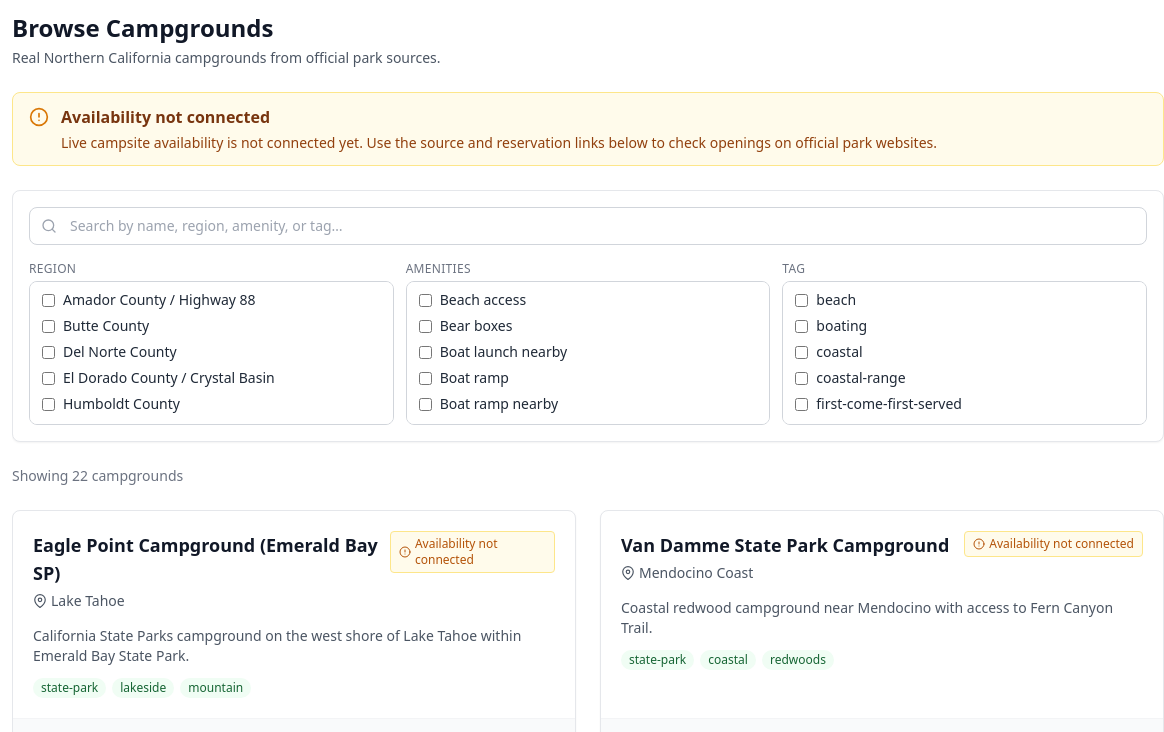
Scenario: CampgroundsPage › filters campgrounds by multiple amenities
The width and height of the screenshot is (1164, 732).
Step 1. Click the checkbox labelled "Beach access" → (425, 300), box [419, 294, 432, 306]
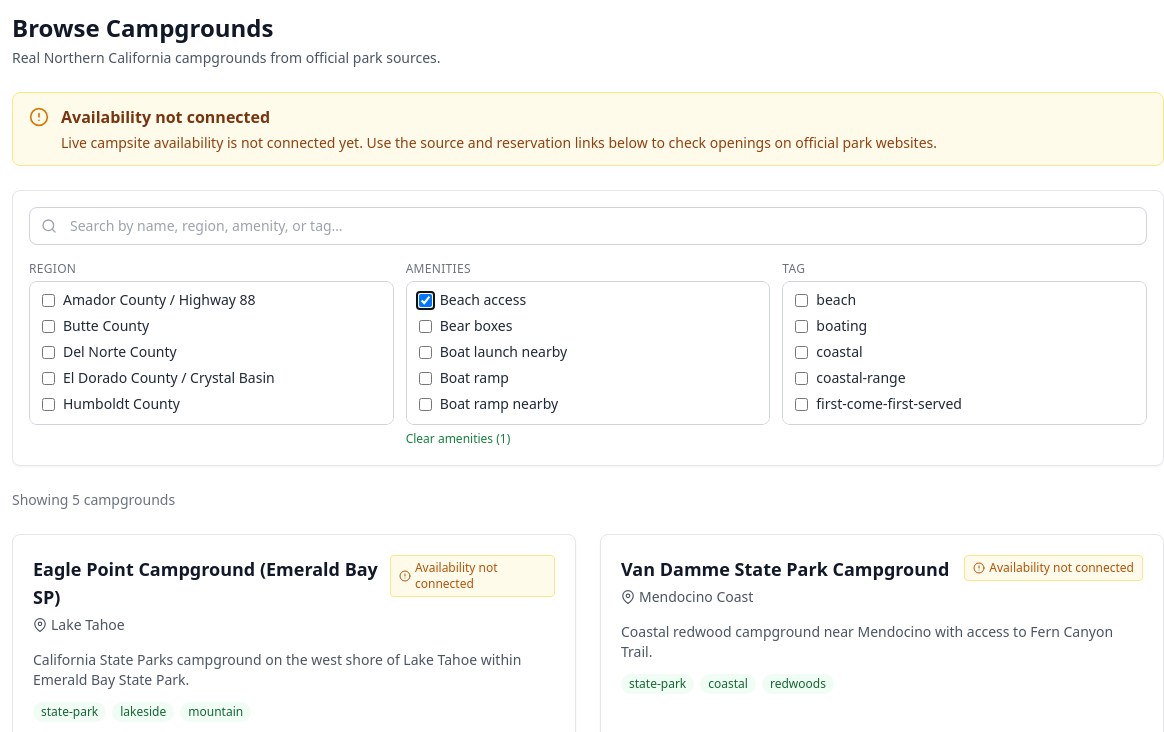
Step 2. Click the checkbox labelled "Bear boxes" → (425, 326), box [419, 320, 432, 332]
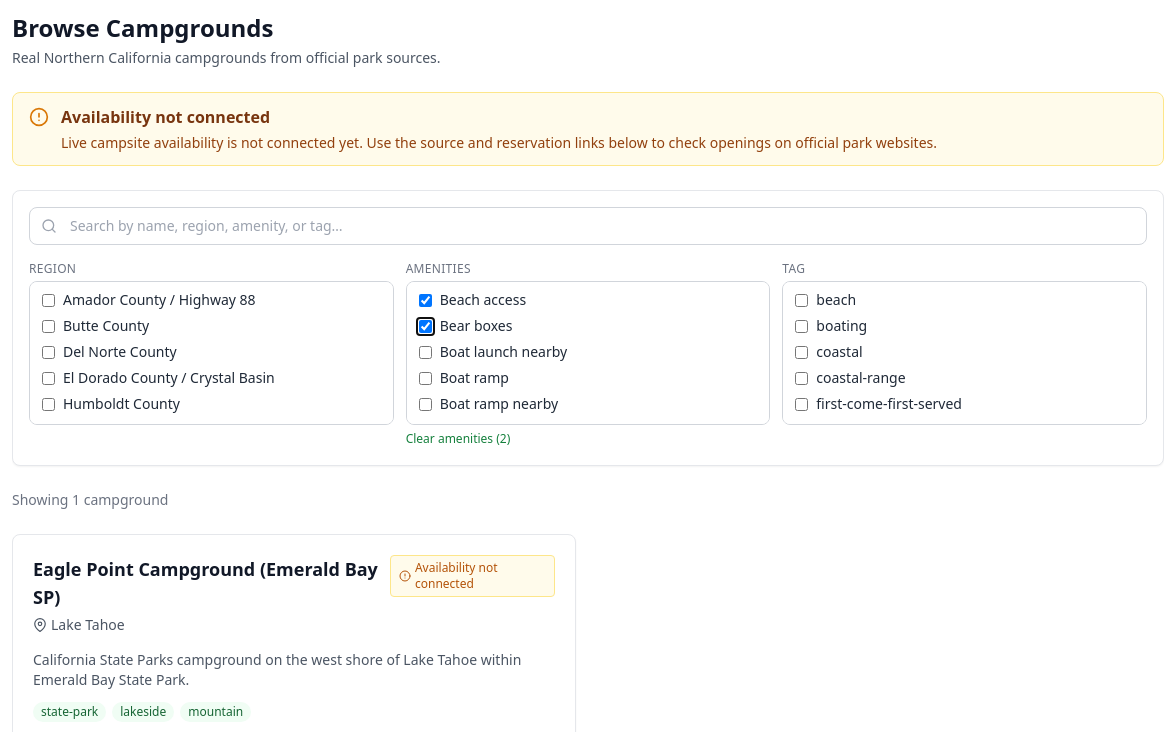
expect the checkbox labelled "Beach access" is checked: met, box [419, 294, 432, 306]
expect the checkbox labelled "Bear boxes" is checked: met, box [419, 320, 432, 332]
expect the button "Clear amenities (2)" is shown: met, box [406, 431, 510, 447]
